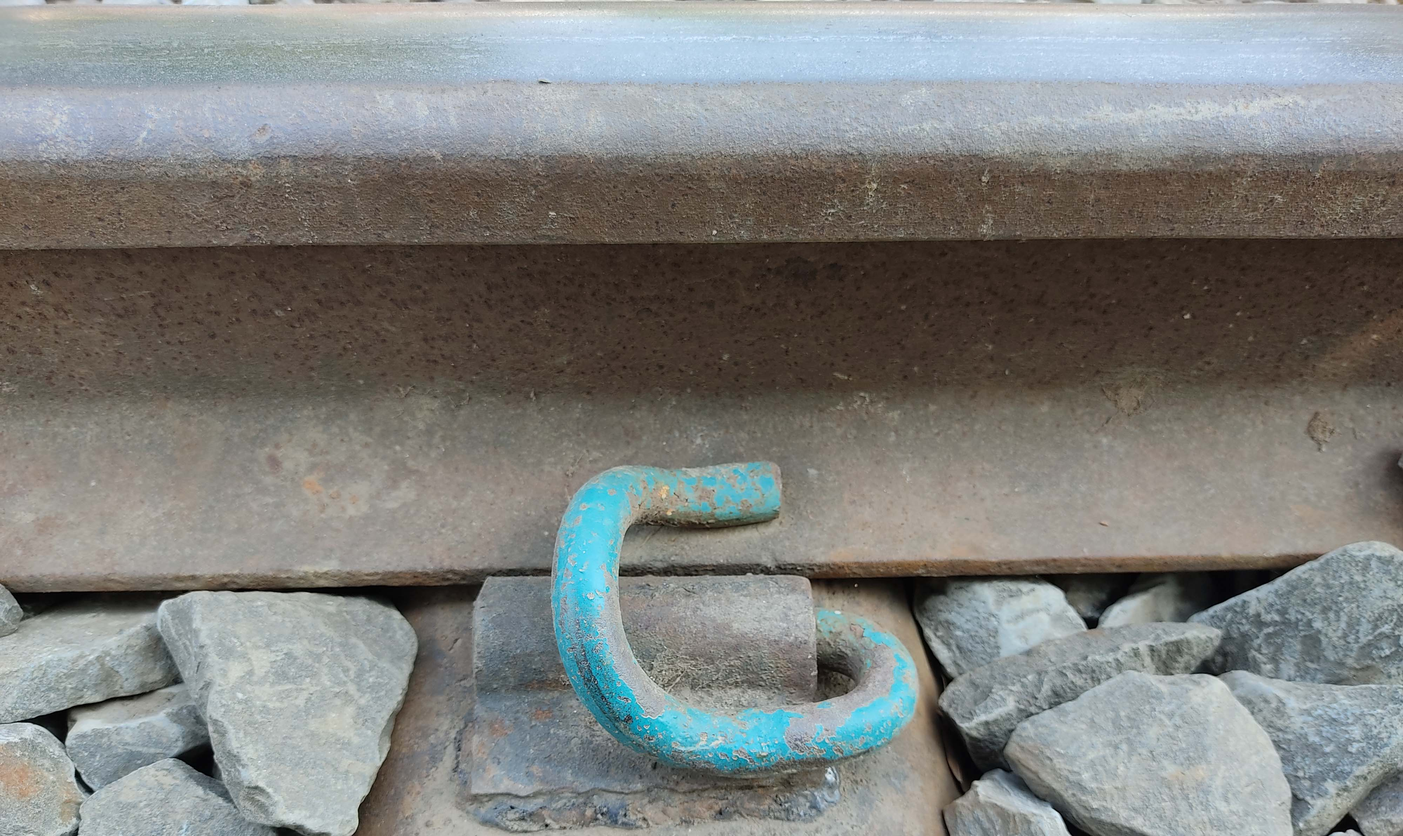Poor contact: (487, 430, 949, 798)
